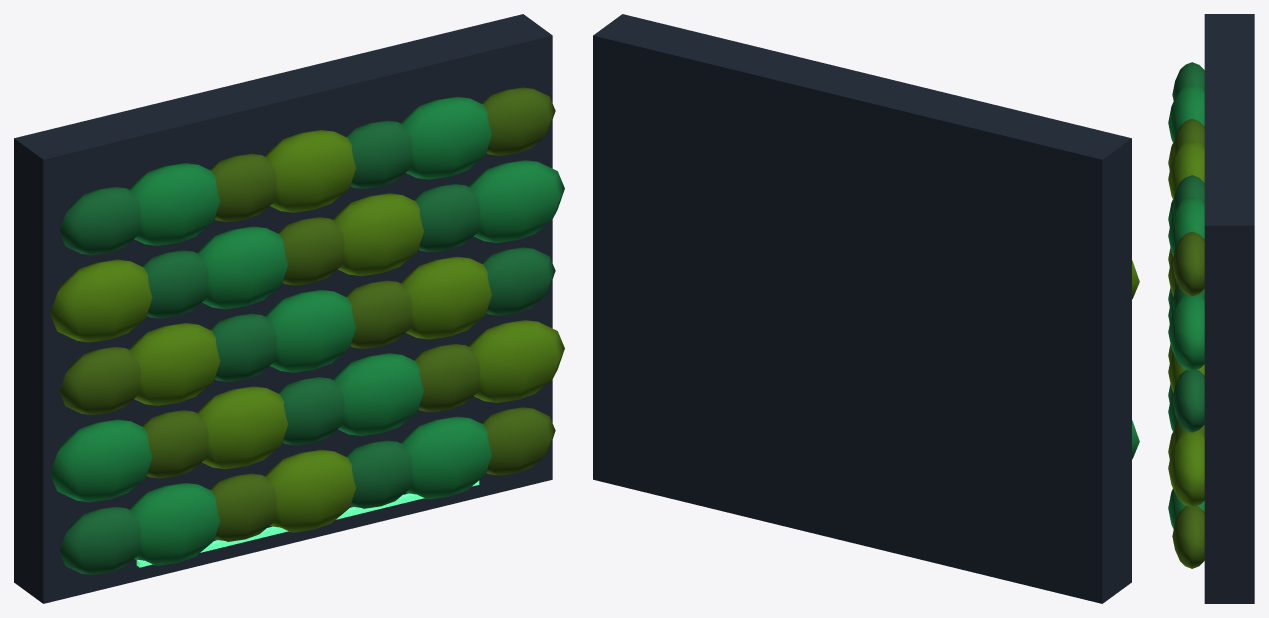
The model's file is vertical_garden.glb.
3 views of the same model, side by side, from view 1: azimuth 30°, elevation 25°; view 2: azimuth 150°, elevation 25°; view 3: azimuth 270°, elevation 25° (orthographic). The views are drawn at different scales.
Parts seen in each view (by area): view 1: vertical_garden, vertical_garden_frame, vertical_garden_irrigation_status; view 2: vertical_garden_frame; view 3: vertical_garden_frame, vertical_garden.
Part boxes in pixels (x1,y1,x2,y2): vertical_garden: (50,87,564,574); vertical_garden_frame: (14,14,552,603); vertical_garden_irrigation_status: (136,480,479,567); vertical_garden_frame: (593,14,1131,603); vertical_garden_frame: (1204,14,1254,603); vertical_garden: (1168,62,1204,568).
Size of the model in its own units: 2.43 by 2 by 0.415.
